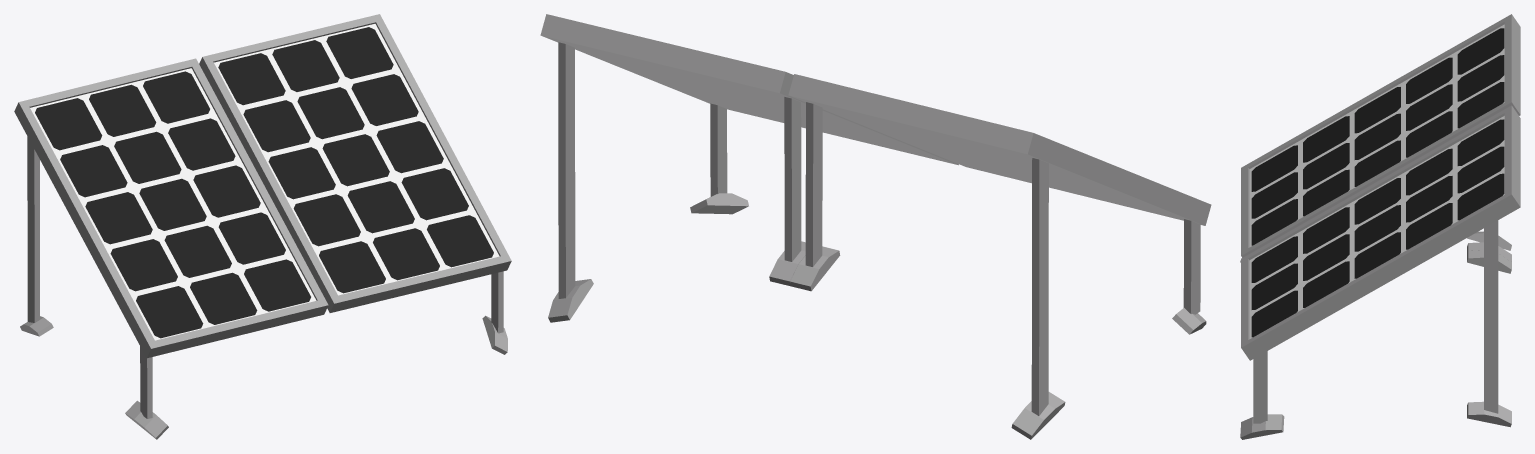
The model's file is SolarPanel_Roof_Cube.obj.
The picture shows the model from 3 angles, left to right: view 1: azimuth 30°, elevation 25°; view 2: azimuth 150°, elevation 25°; view 3: azimuth 270°, elevation 25°; orthographic projection. The views are drawn at different scales.
Parts seen in each view (by area): view 1: SolarPanel_Roof_Cube.014; view 2: SolarPanel_Roof_Cube.014; view 3: SolarPanel_Roof_Cube.014.
Boxes of the visible parts, x1,y1,x2,y2 form: SolarPanel_Roof_Cube.014: (14,14,511,439); SolarPanel_Roof_Cube.014: (540,14,1211,439); SolarPanel_Roof_Cube.014: (1240,14,1520,439).
Bounding box in the file's own units: 2.73 × 1.7 × 1.73.
